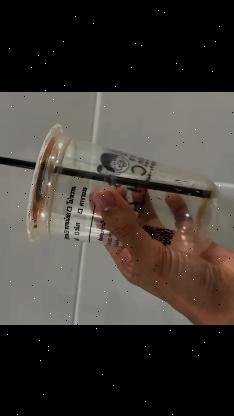Others: (26, 122, 218, 258)
